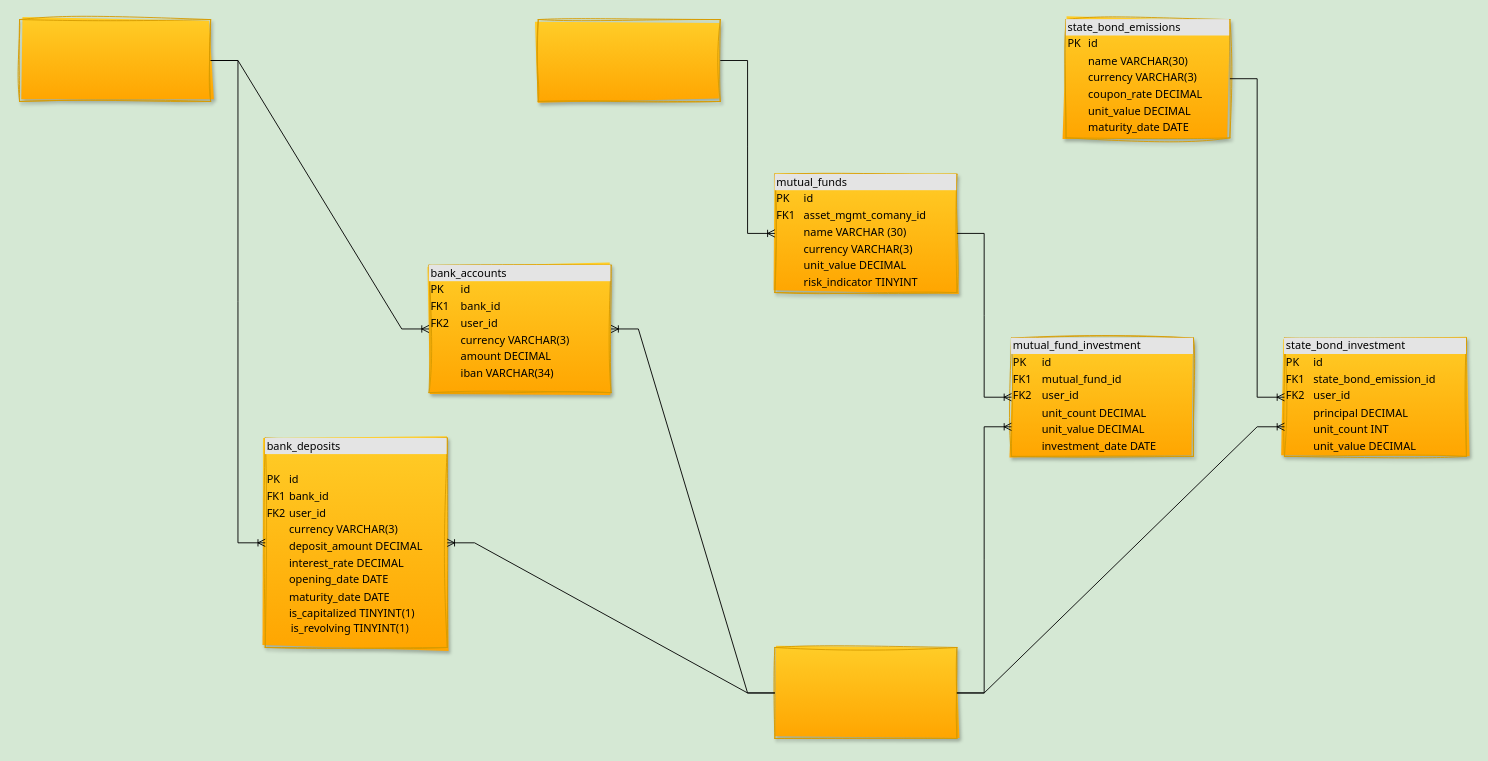
Image size: 1488x761. Some labels were removed from this diagram. Here are the shapes that lost their labels. From the top down, the centre of each, then its label:
At (115,61): "banks PK id name VARCHAR(30)".
At (630,61): "asset_mgmt_companies PK id name VARCHAR(30)".
At (866,694): "users PK id name VARCHAR(255) email VARCHAR(255) password VARCHAR(255)".
